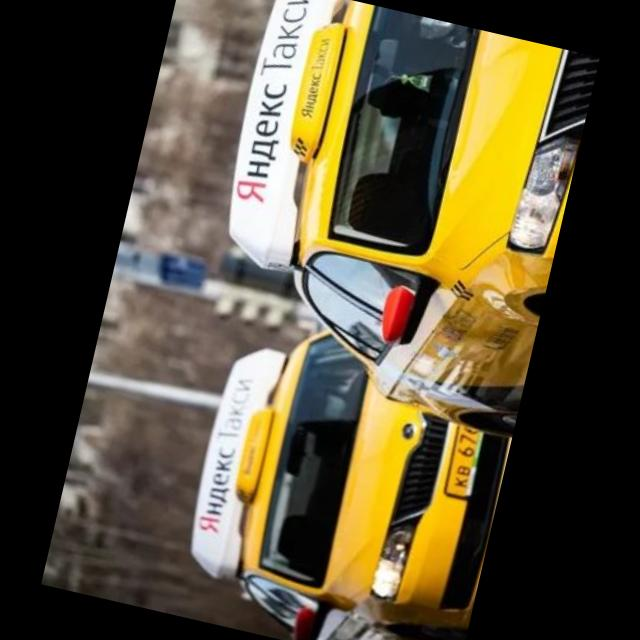taxi: (185, 1, 601, 441), (167, 304, 528, 640)
